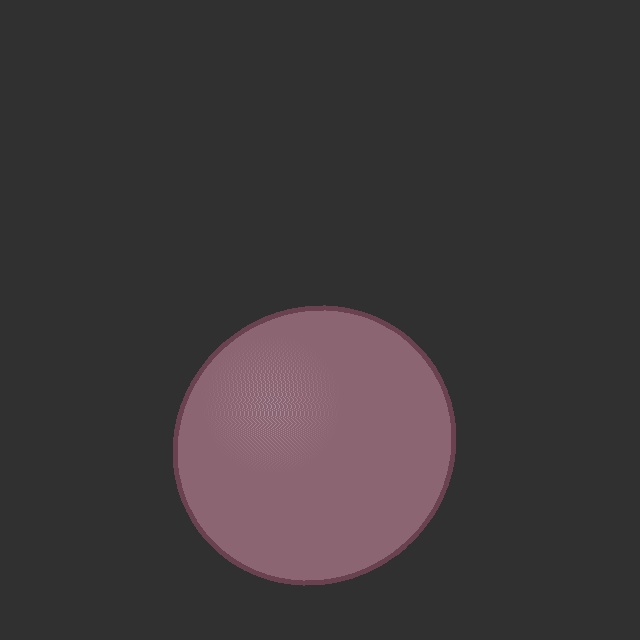lens: (175, 308, 453, 582)
